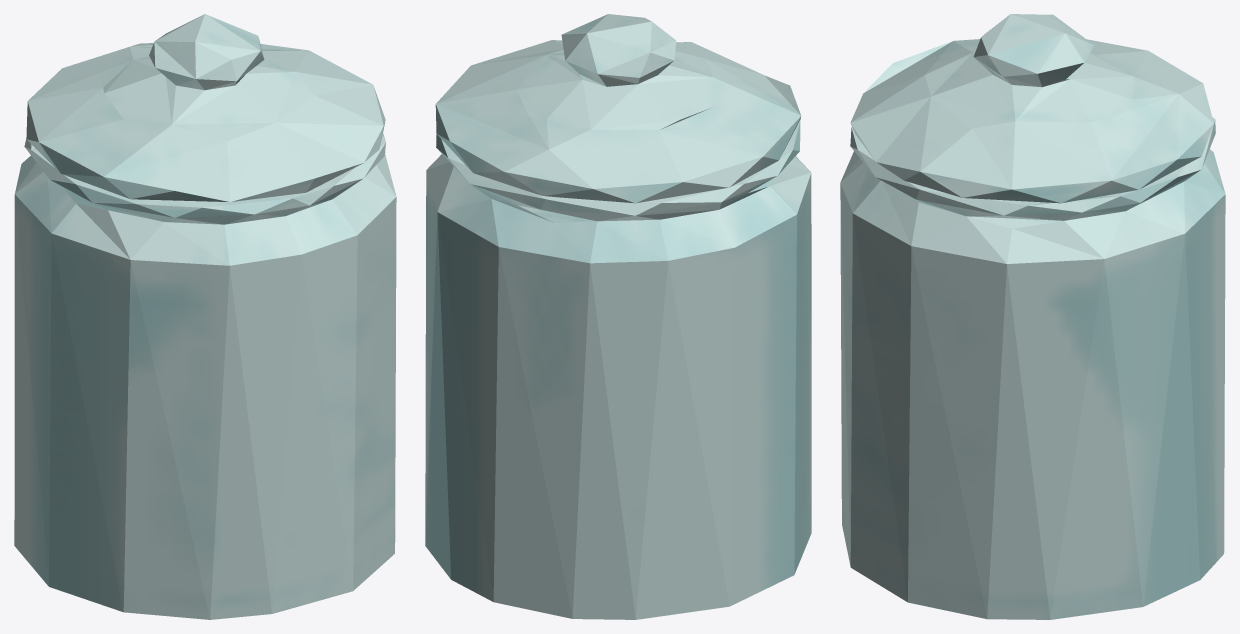
Rendered from jar2_2.dae.
The picture shows the model from 3 angles, left to right: view 1: azimuth 30°, elevation 25°; view 2: azimuth 150°, elevation 25°; view 3: azimuth 270°, elevation 25°; orthographic projection.
Parts seen in each view (by area): view 1: node; view 2: node; view 3: node.
Part boxes in pixels (bbox=[...]): node: bbox=[14, 14, 396, 619]; node: bbox=[425, 14, 811, 619]; node: bbox=[840, 14, 1225, 619].
Size of the model in its own units: 0.2277 by 0.3356 by 0.2269.
Materials: 1 (1 with a texture image).
